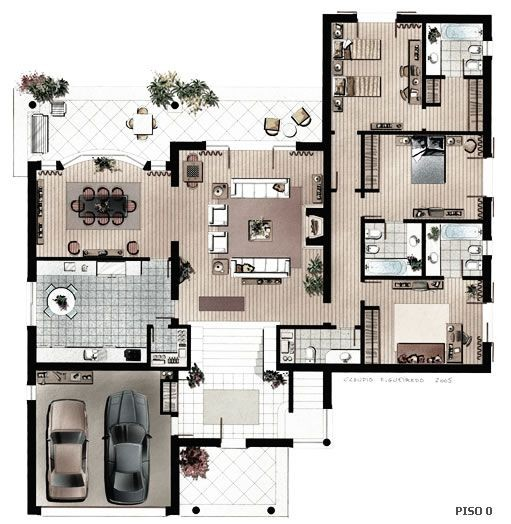room: (170, 140, 332, 328), (323, 14, 492, 133), (323, 274, 492, 372), (27, 255, 152, 370)
